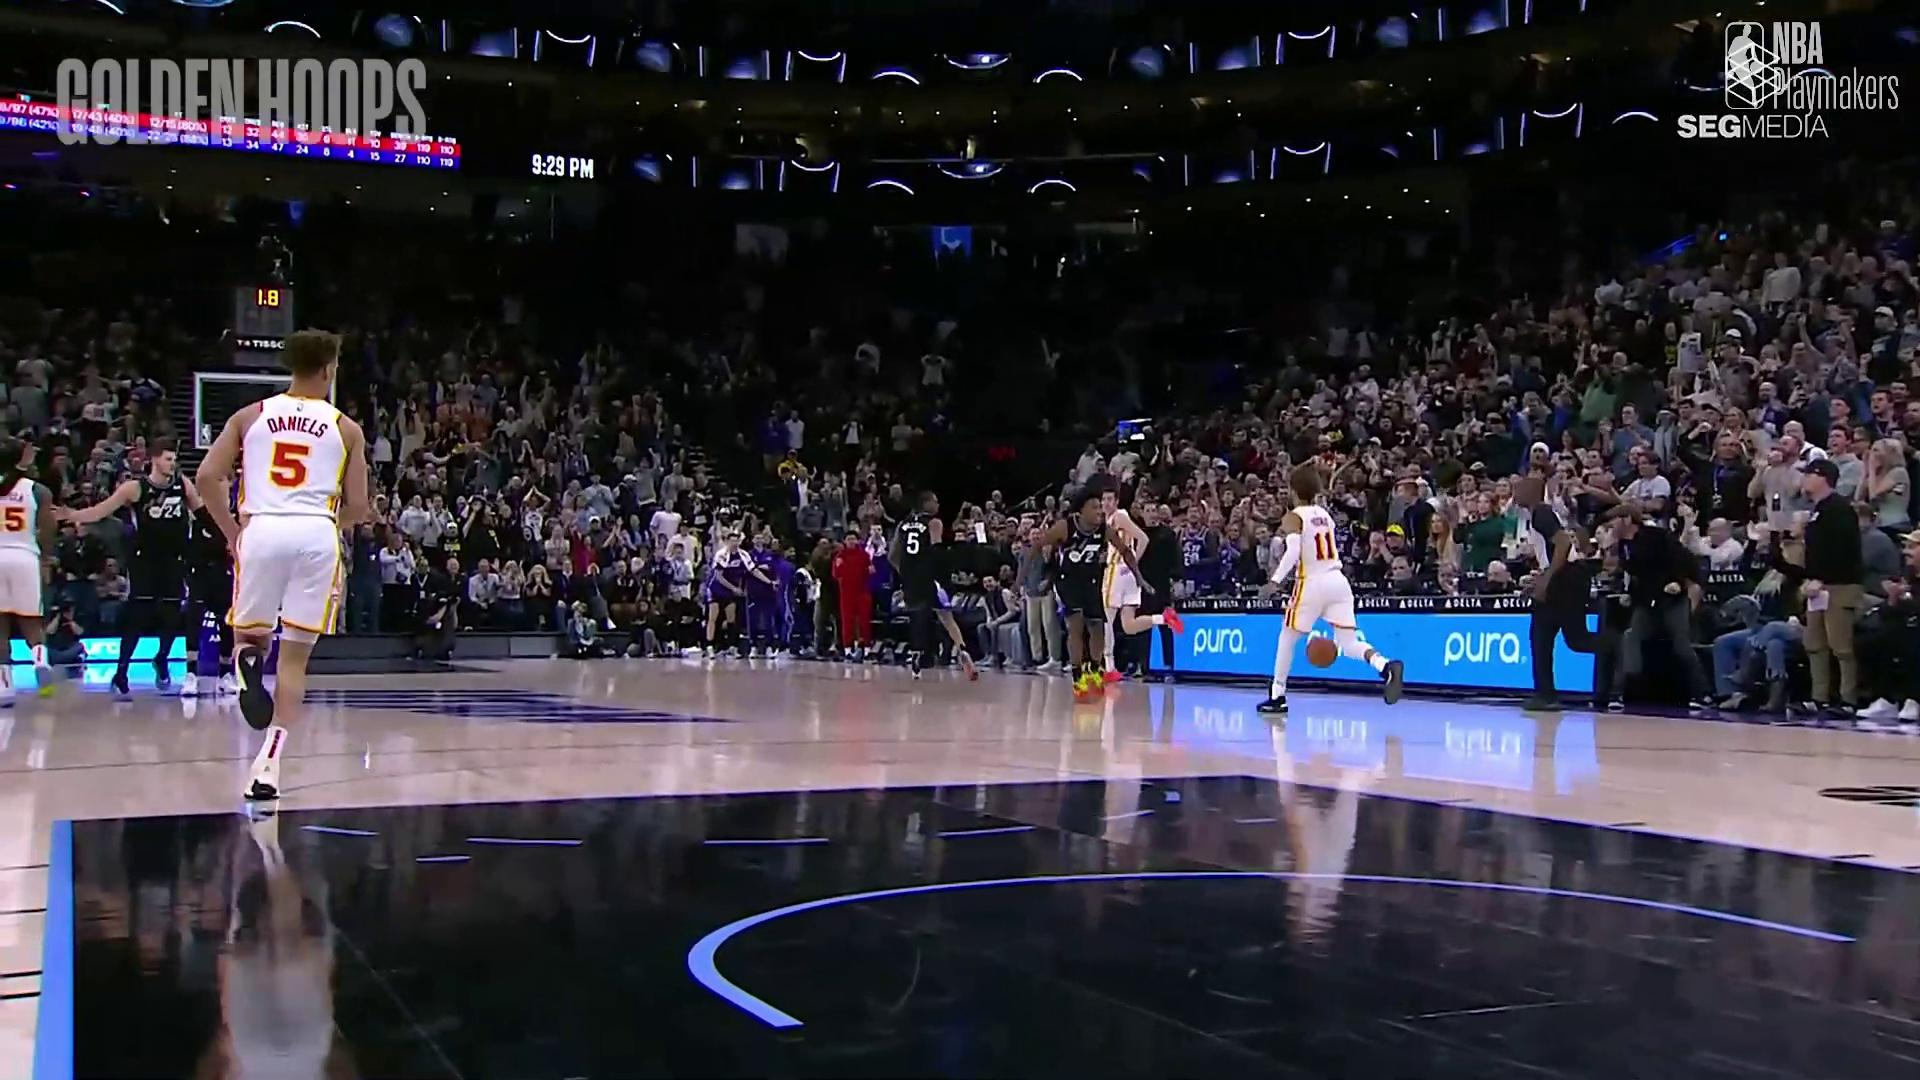ball: (1304, 633, 1340, 675)
